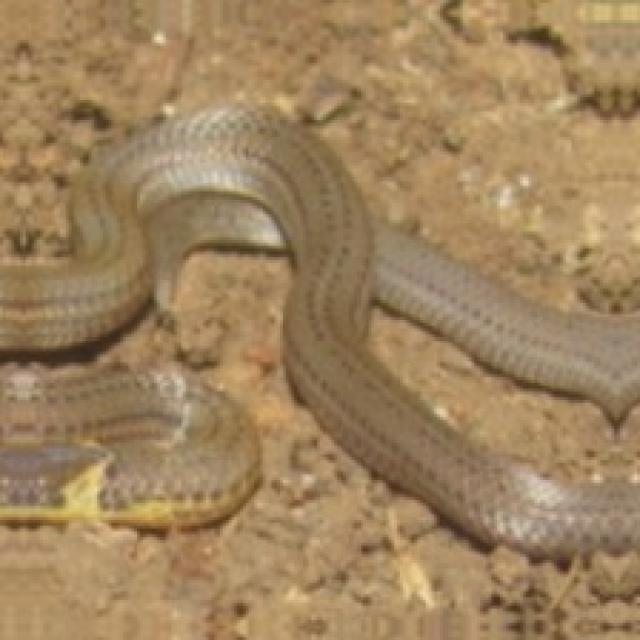gervais worm snake: (0, 106, 637, 557), (0, 369, 259, 529)
